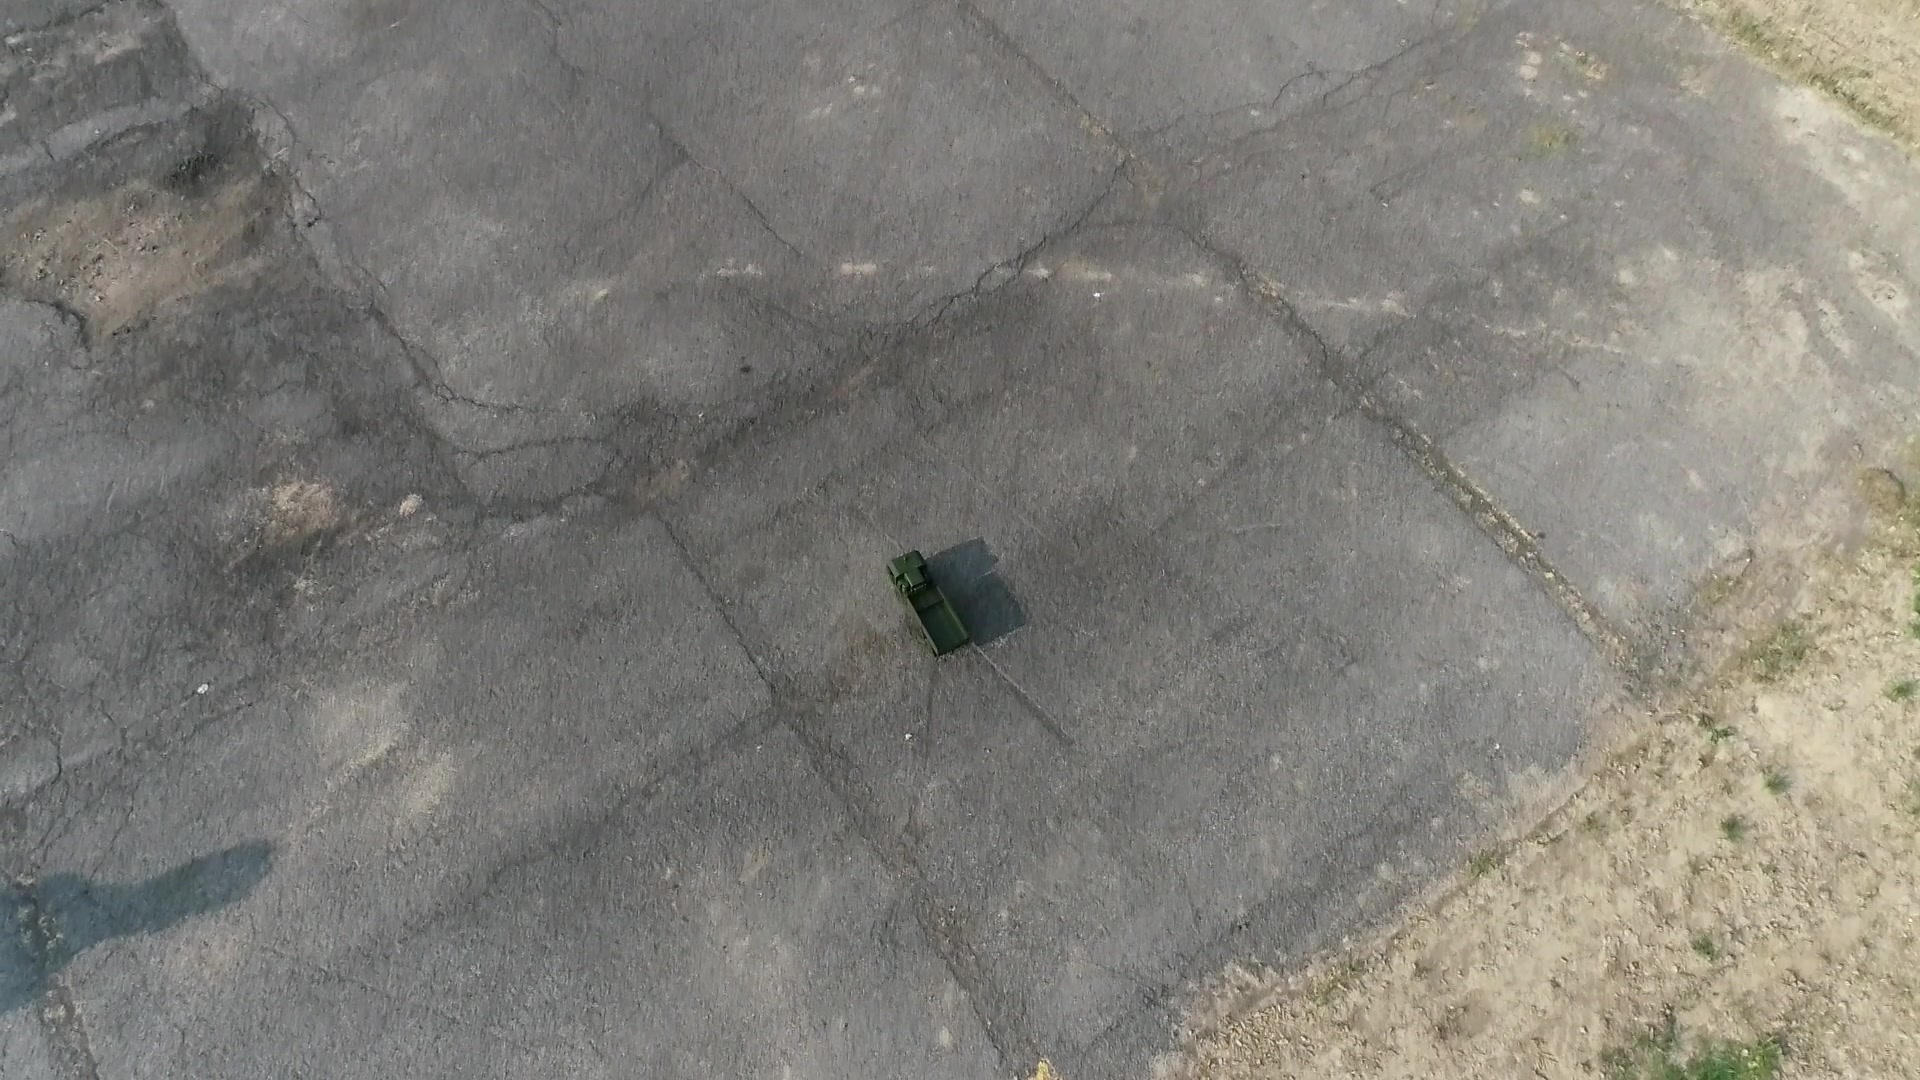transporter9: (880, 549, 975, 665)
